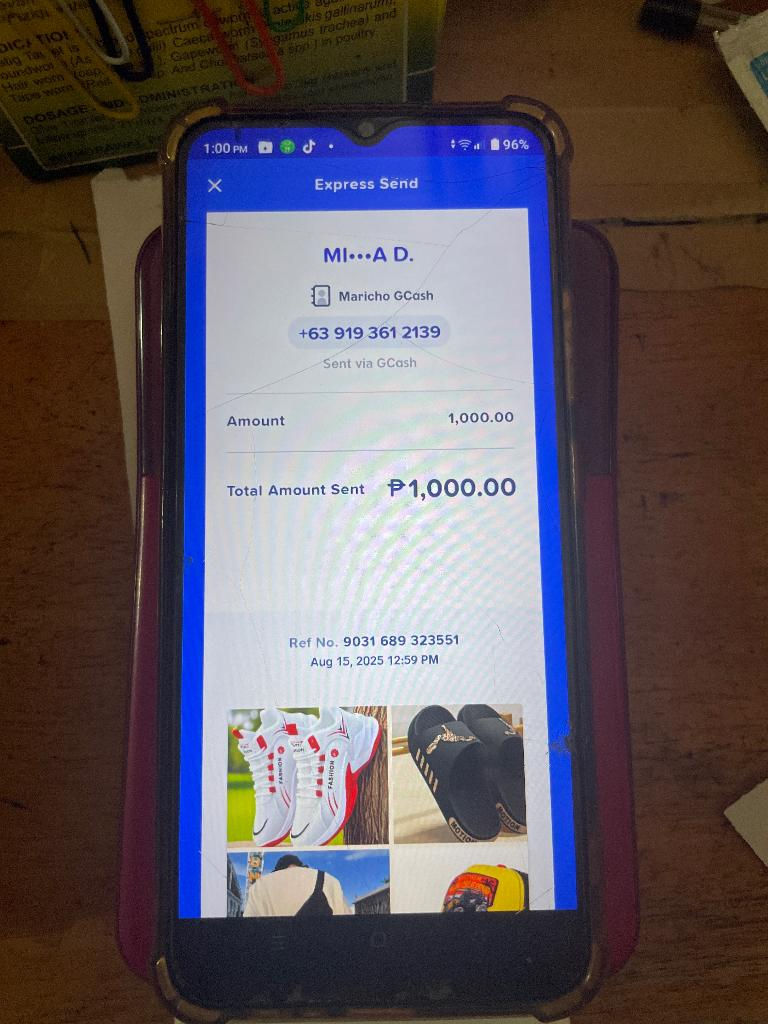Receipt: (185, 158, 567, 913)
